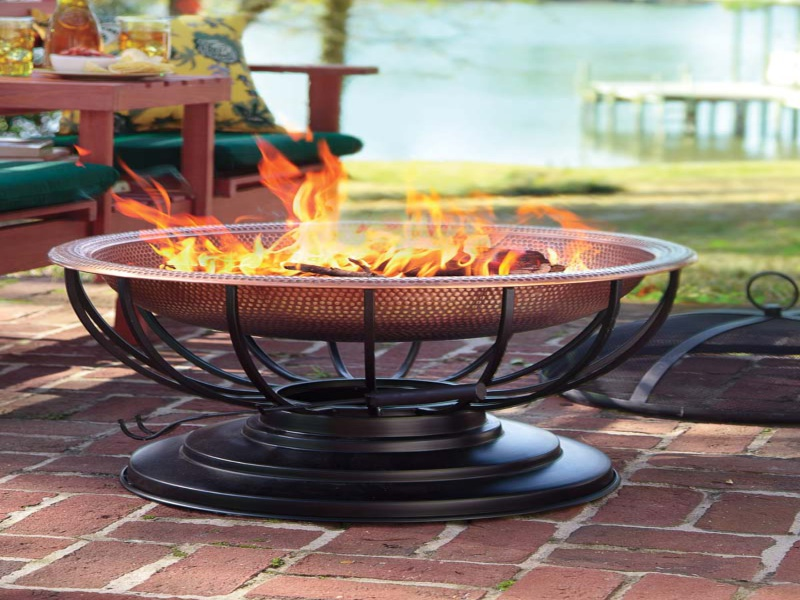fire: (142, 209, 545, 272), (256, 137, 346, 223), (561, 211, 588, 273)
